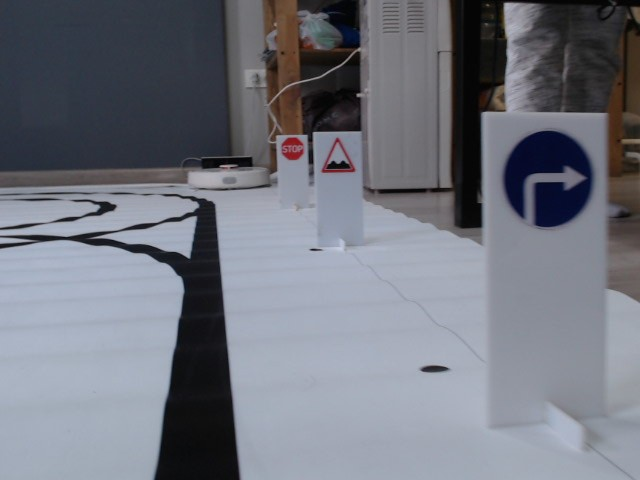Nerov: (317, 136, 356, 176)
Right: (496, 130, 598, 230)
Stop: (281, 136, 306, 160)
